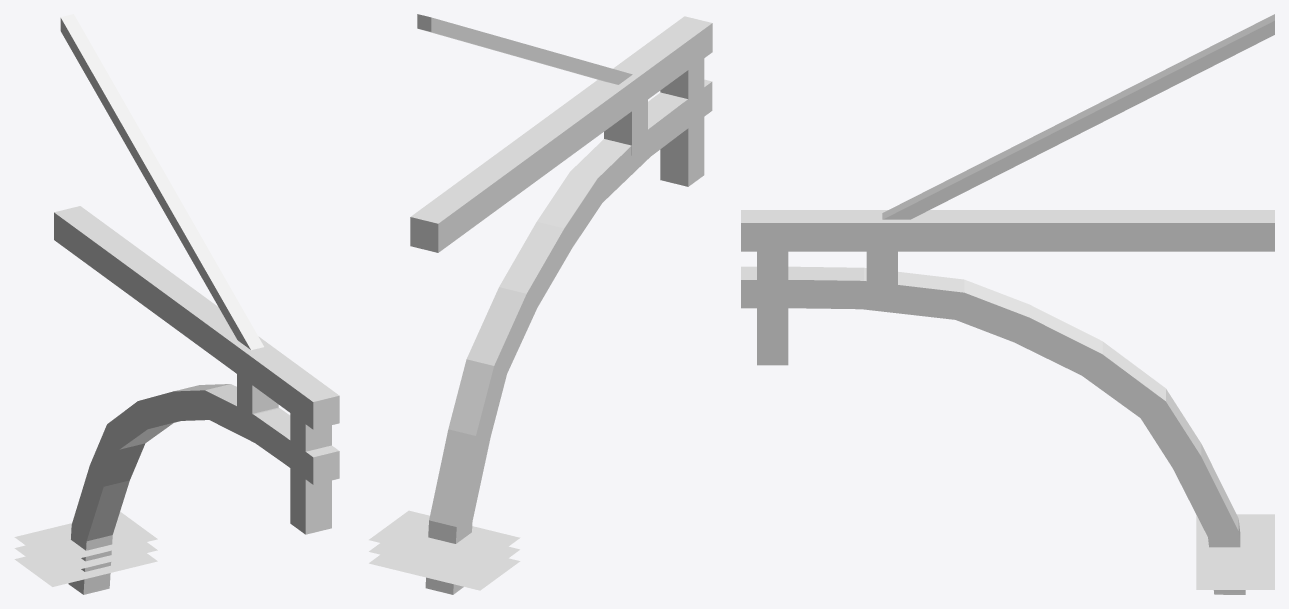
Rendered from Light20.obj.
The picture shows the model from 3 angles, left to right: view 1: azimuth 30°, elevation 25°; view 2: azimuth 150°, elevation 25°; view 3: azimuth 270°, elevation 25°; orthographic projection. The views are drawn at different scales.
Size of the model in its own units: 0.5 by 2.51 by 2.12.
